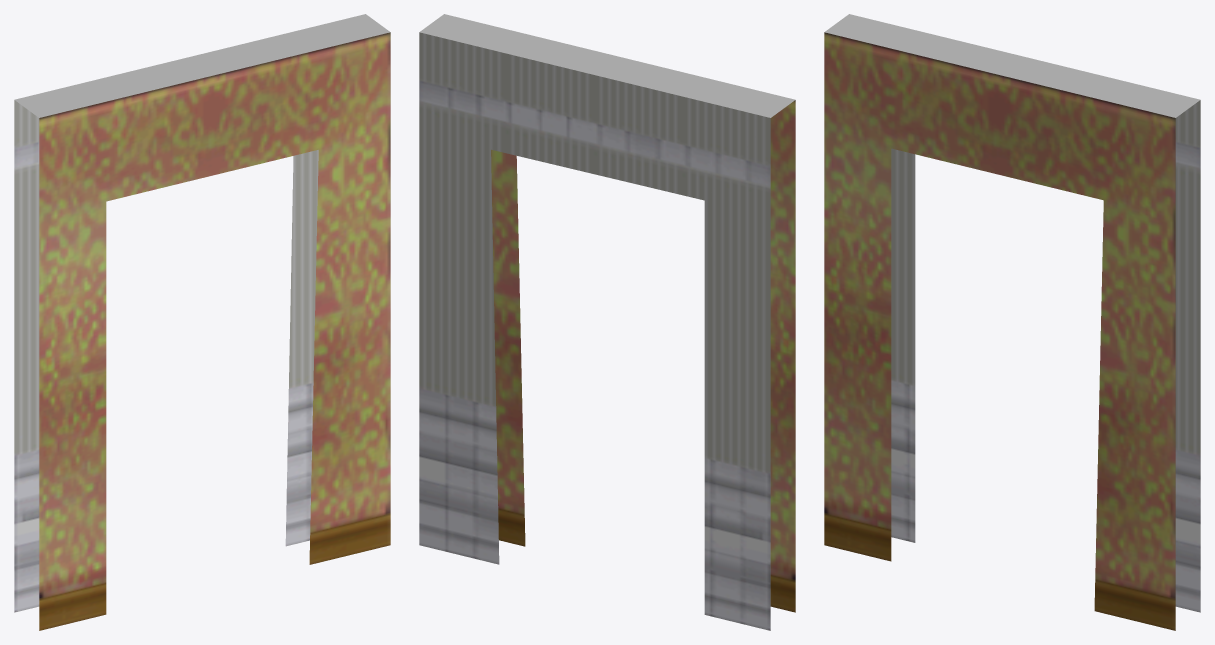
Rendered from W_I3_o [RosaPlastik-Grau]_2228.glb.
3 views of the same model, side by side, from view 1: azimuth 30°, elevation 25°; view 2: azimuth 150°, elevation 25°; view 3: azimuth 330°, elevation 25° (orthographic).
Visible parts, largest first — view 1: pPlaneShape2, pPlaneShape3, pPlaneShape1; view 2: pPlaneShape3, pPlaneShape2, pPlaneShape1; view 3: pPlaneShape2, pPlaneShape3, pPlaneShape1.
Part boxes in pixels (x1,y1,x2,y2): pPlaneShape2: [39, 32, 390, 630]; pPlaneShape3: [14, 100, 318, 612]; pPlaneShape1: [14, 14, 390, 117]; pPlaneShape3: [419, 32, 770, 630]; pPlaneShape2: [491, 100, 795, 612]; pPlaneShape1: [419, 14, 795, 117]; pPlaneShape2: [824, 32, 1175, 630]; pPlaneShape3: [891, 100, 1200, 612]; pPlaneShape1: [824, 14, 1200, 117].
Size of the model in its own units: 0.25 by 0.3486 by 0.0308.
Materials: 3 (2 with a texture image).
